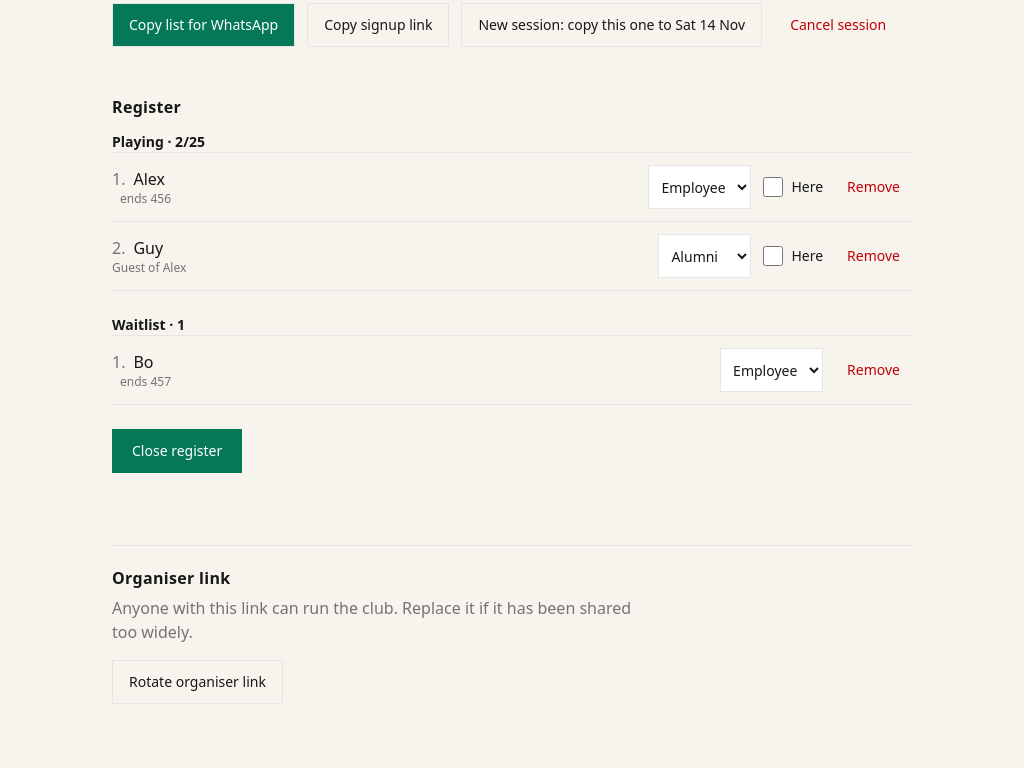
rotating the Organiser link › keeps the old link on screen as the only link when rotation fails
(page scrolled)
Click the button "Rotate organiser link" at coordinates (197, 682), box [112,660,283,704]
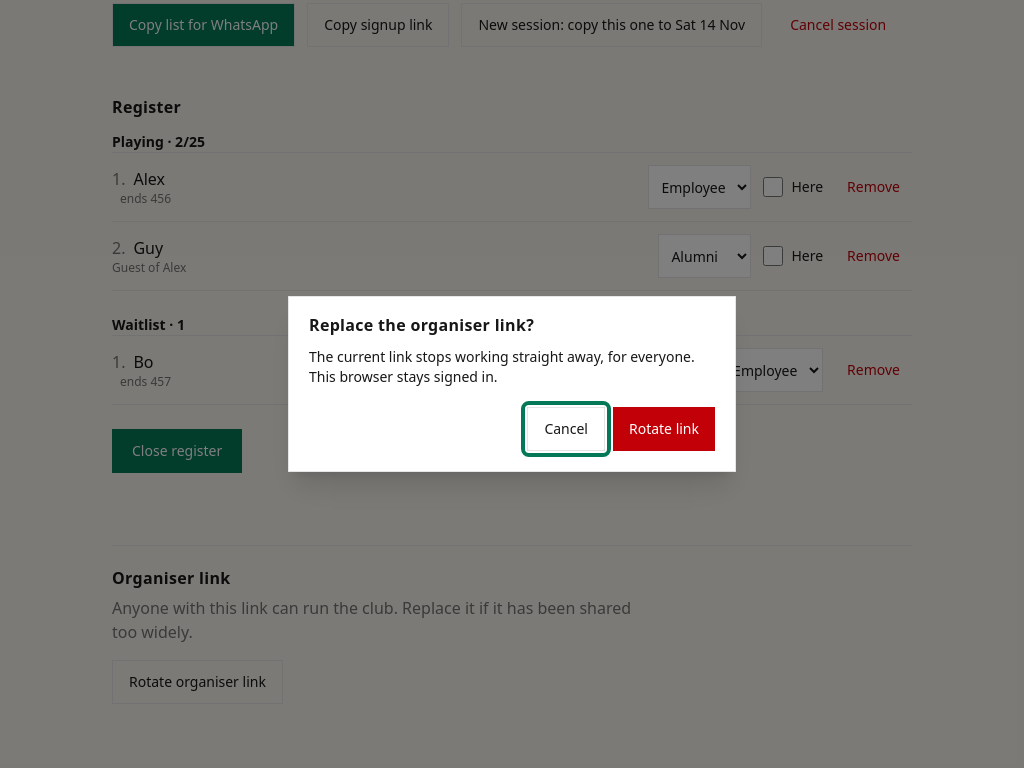
Click the button "Rotate link" at coordinates (664, 429), box [613,407,715,451]
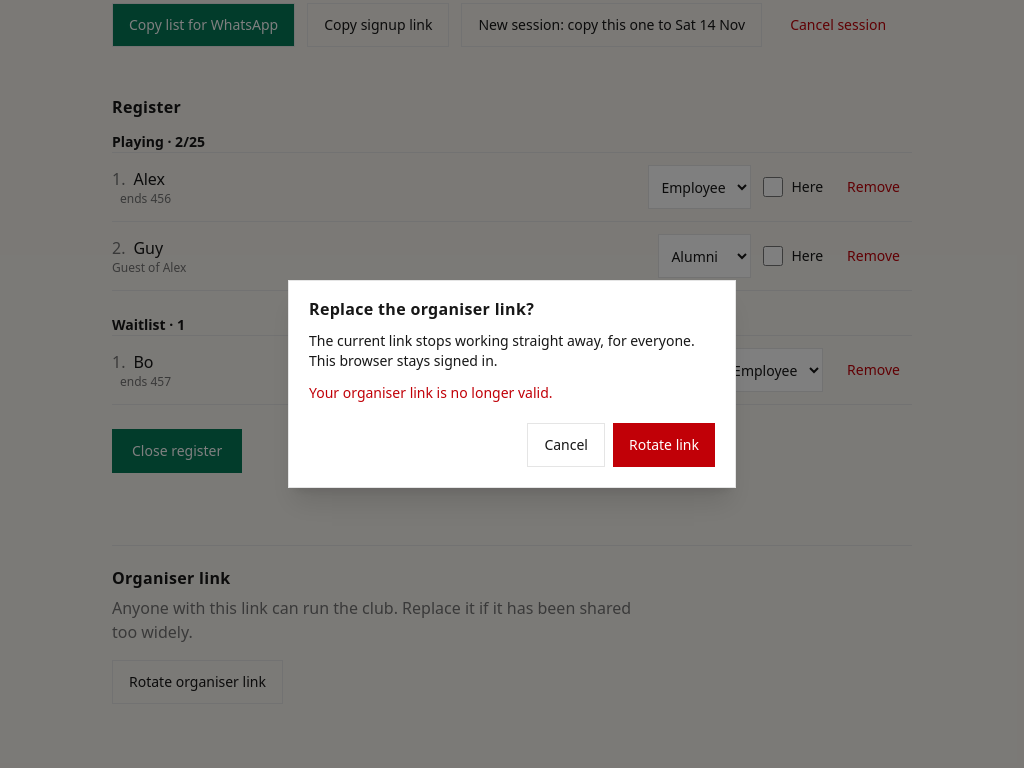
Result: the text "Your organiser link is no longer valid." is shown at [309,383,553,402]
